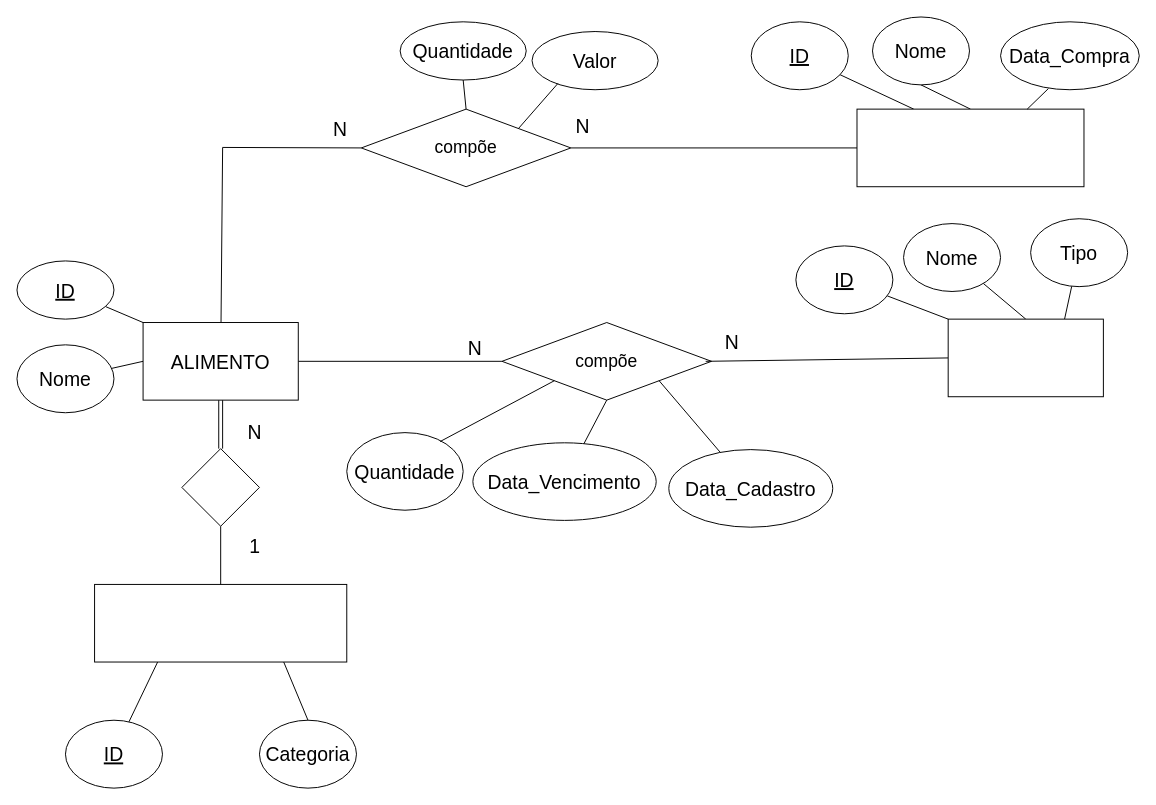
This 1156x805 diagram has some shape labels left out. Each missing label, with the centre of its shape:
AMBIENTE: [1025,357]
CATEGORIA_ALIMENTO: [220,622]
LISTA_DE_COMPRA: [970,147]
possui: [220,487]
